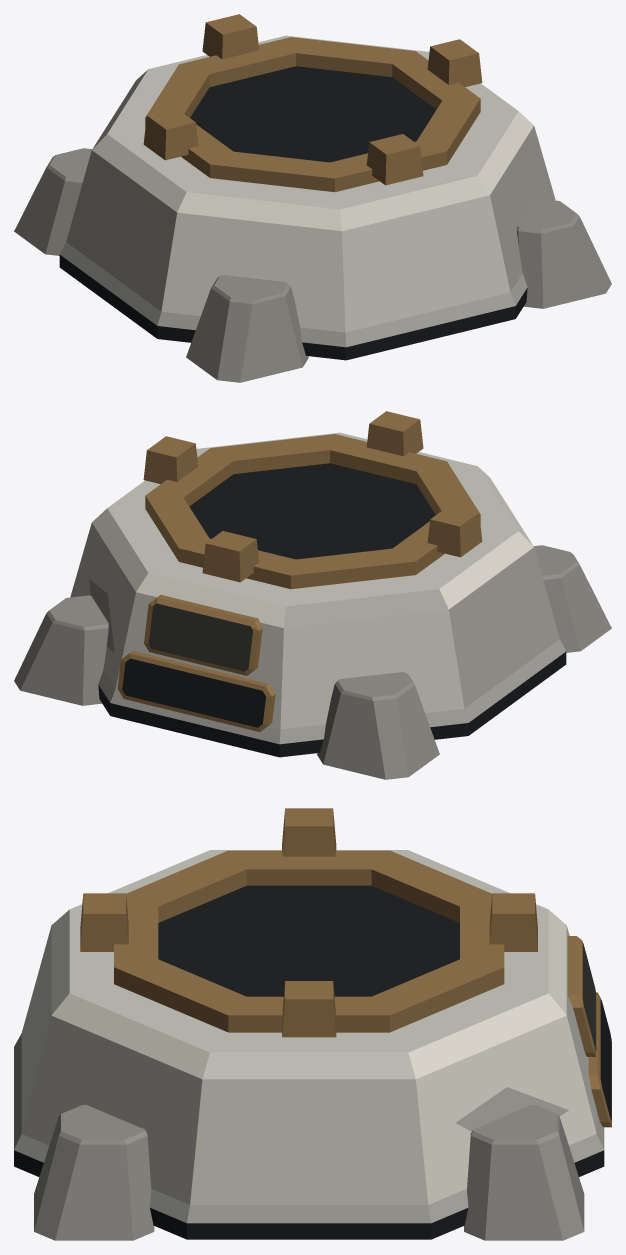
The model's file is BIY_MedievalStone_TimerPedestal_Reference.obj.
The picture shows the model from 3 angles, top to bottom: view 1: azimuth 30°, elevation 25°; view 2: azimuth 150°, elevation 25°; view 3: azimuth 270°, elevation 25°; orthographic projection. The views are drawn at different scales.
Visible parts, largest first — view 1: Stone_CarvedBody_WithFeet, Bronze_Socket_And_MetalTrims, CandleSocket_Interior; view 2: Stone_CarvedBody_WithFeet, Bronze_Socket_And_MetalTrims, CandleSocket_Interior, Countdown_Screen_Empty, NodeType_Badge_Empty; view 3: Stone_CarvedBody_WithFeet, Bronze_Socket_And_MetalTrims, CandleSocket_Interior, Countdown_Screen_Empty, NodeType_Badge_Empty.
Boxes of the visible parts, x1=… form: Stone_CarvedBody_WithFeet: x1=14, y1=35, x2=611, y2=382; Bronze_Socket_And_MetalTrims: x1=143, y1=14, x2=482, y2=192; CandleSocket_Interior: x1=190, y1=66, x2=436, y2=162; Stone_CarvedBody_WithFeet: x1=14, y1=432, x2=611, y2=779; Bronze_Socket_And_MetalTrims: x1=117, y1=411, x2=482, y2=731; CandleSocket_Interior: x1=189, y1=463, x2=435, y2=559; Countdown_Screen_Empty: x1=122, y1=658, x2=265, y2=727; NodeType_Badge_Empty: x1=148, y1=603, x2=252, y2=671; Stone_CarvedBody_WithFeet: x1=14, y1=850, x2=604, y2=1240; Bronze_Socket_And_MetalTrims: x1=80, y1=808, x2=611, y2=1127; CandleSocket_Interior: x1=158, y1=885, x2=459, y2=996; Countdown_Screen_Empty: x1=600, y1=999, x2=611, y2=1120; NodeType_Badge_Empty: x1=582, y1=942, x2=596, y2=1050.
Bounding box in the file's own units: 0.7853 × 0.318 × 0.7955.
